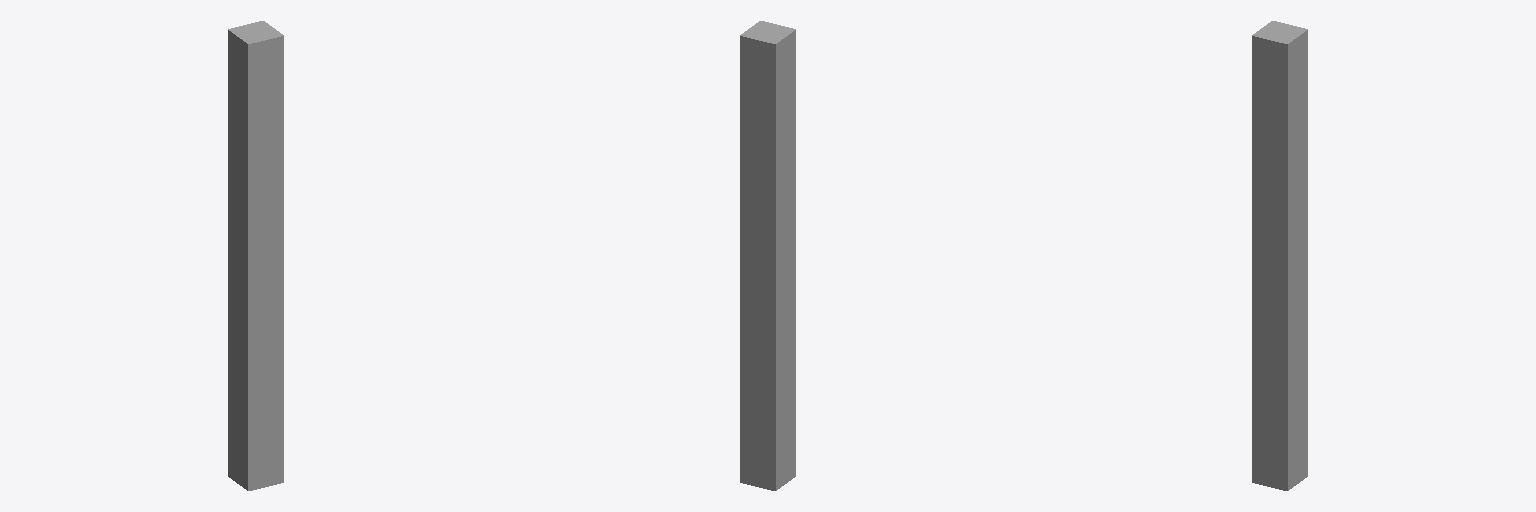
The robot description file, URDF, robot "calibration_pole":
<?xml version="1.0" ?>
<!-- Camera mounting pole. Origin at geometric center.
     Square pole: 0.06 x 0.06 x 0.7112 m -->
<robot name="calibration_pole">
  <link name="calibration_pole">
    <visual>
      <geometry><box size="0.06 0.06 0.7112"/></geometry>
      <material name="aluminum"><color rgba="0.7 0.7 0.7 1.0"/></material>
    </visual>
    <collision>
      <geometry><box size="0.06 0.06 0.7112"/></geometry>
    </collision>
  </link>
</robot>

--- What the picture shows (computed from the rendered views, not written in the file) ---
3 views of the same robot in one strip: view 1: azimuth 30°, elevation 25°; view 2: azimuth 150°, elevation 25°; view 3: azimuth 330°, elevation 25° (orthographic).
Robot: calibration_pole — 1 links, 0 joints (none); root link calibration_pole; default pose: every joint at zero.
Visible links, largest first — view 1: calibration_pole; view 2: calibration_pole; view 3: calibration_pole.
Link boxes in pixels (bbox=[...]): calibration_pole: bbox=[228, 21, 283, 490]; calibration_pole: bbox=[740, 21, 795, 490]; calibration_pole: bbox=[1252, 21, 1307, 490].
Bounding box of the posed robot: 0.06 × 0.06 × 0.7112 m (x, y, z).
Geometry: primitives only (box / cylinder / sphere), no mesh files.
